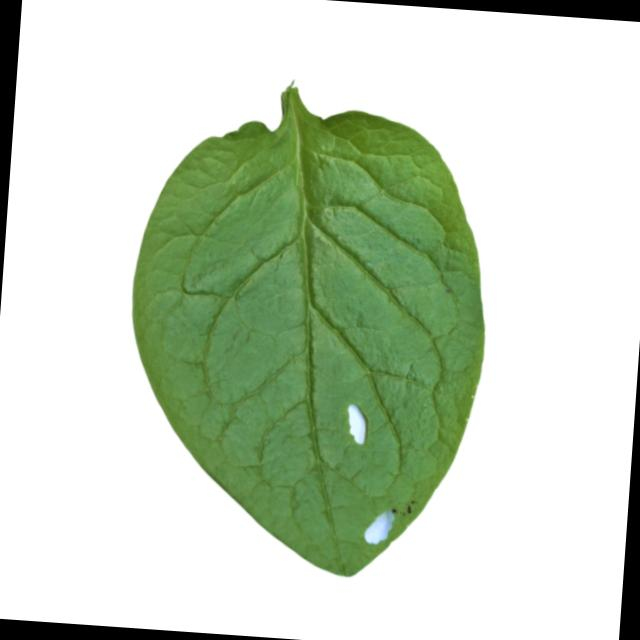Medicinal-Basale: (111, 77, 502, 586)
